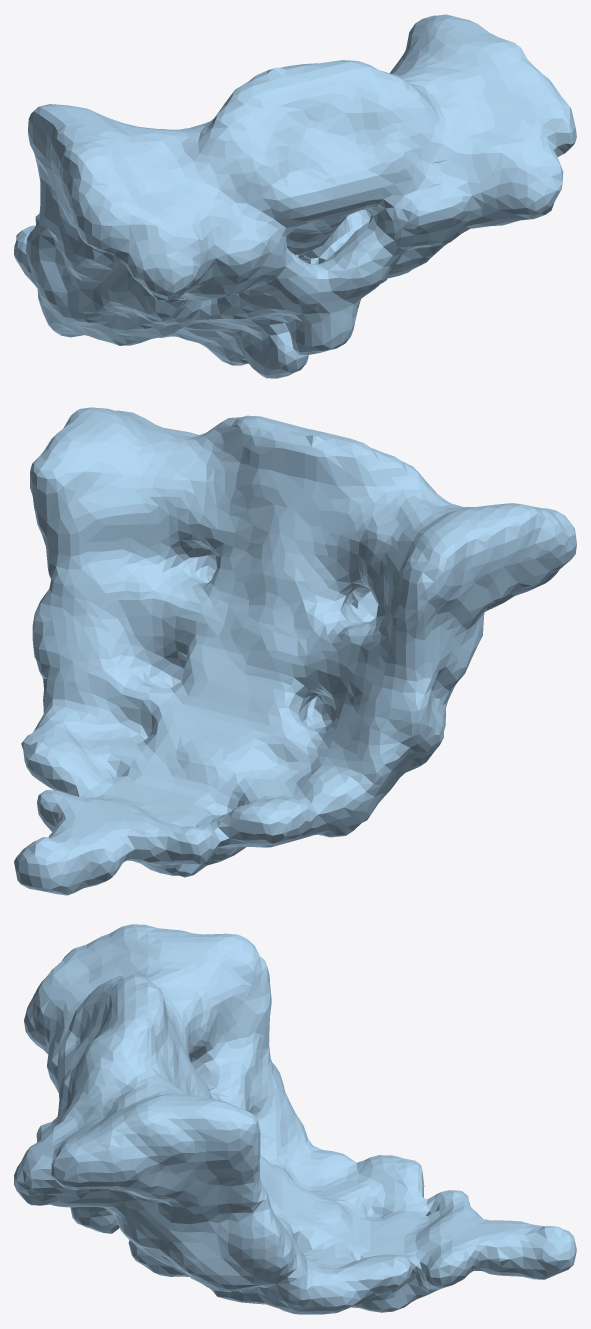
3 renders of one model, top to bottom at view 1: azimuth 30°, elevation 25°; view 2: azimuth 150°, elevation 25°; view 3: azimuth 270°, elevation 25°, orthographic. The views are drawn at different scales.
Parts seen in each view (by area): view 1: world; view 2: world; view 3: world.
Part boxes in pixels (bbox=[...]): world: bbox=[14, 14, 576, 378]; world: bbox=[14, 407, 576, 895]; world: bbox=[14, 924, 576, 1314].
Size of the model in its own units: 0.6603 by 0.4456 by 0.7502.
